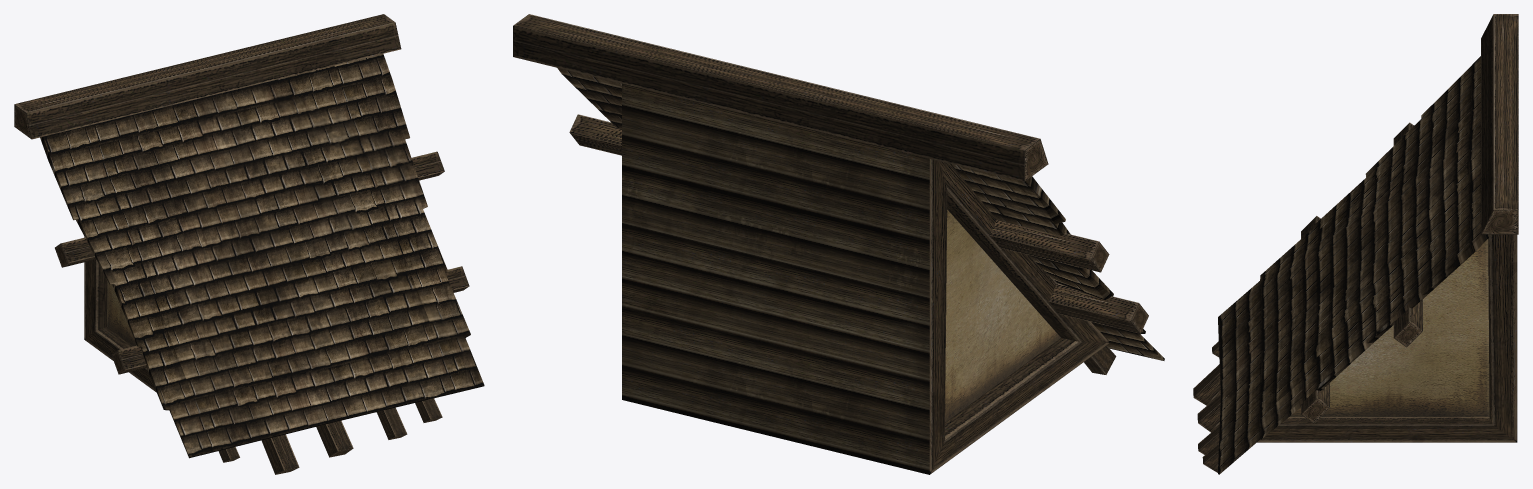
The model's file is Roof_6X6_02a.fbx.
The picture shows the model from 3 angles, left to right: view 1: azimuth 30°, elevation 25°; view 2: azimuth 150°, elevation 25°; view 3: azimuth 270°, elevation 25°; orthographic projection. The views are drawn at different scales.
Parts seen in each view (by area): view 1: Roof_6X6_02a; view 2: Roof_6X6_02a; view 3: Roof_6X6_02a.
Part boxes in pixels (x1=…): Roof_6X6_02a: x1=14, y1=14, x2=484, y2=474; Roof_6X6_02a: x1=513, y1=14, x2=1164, y2=474; Roof_6X6_02a: x1=1193, y1=14, x2=1518, y2=474.
Bounding box in the file's own units: 10.16 × 7.67 × 6.99.
